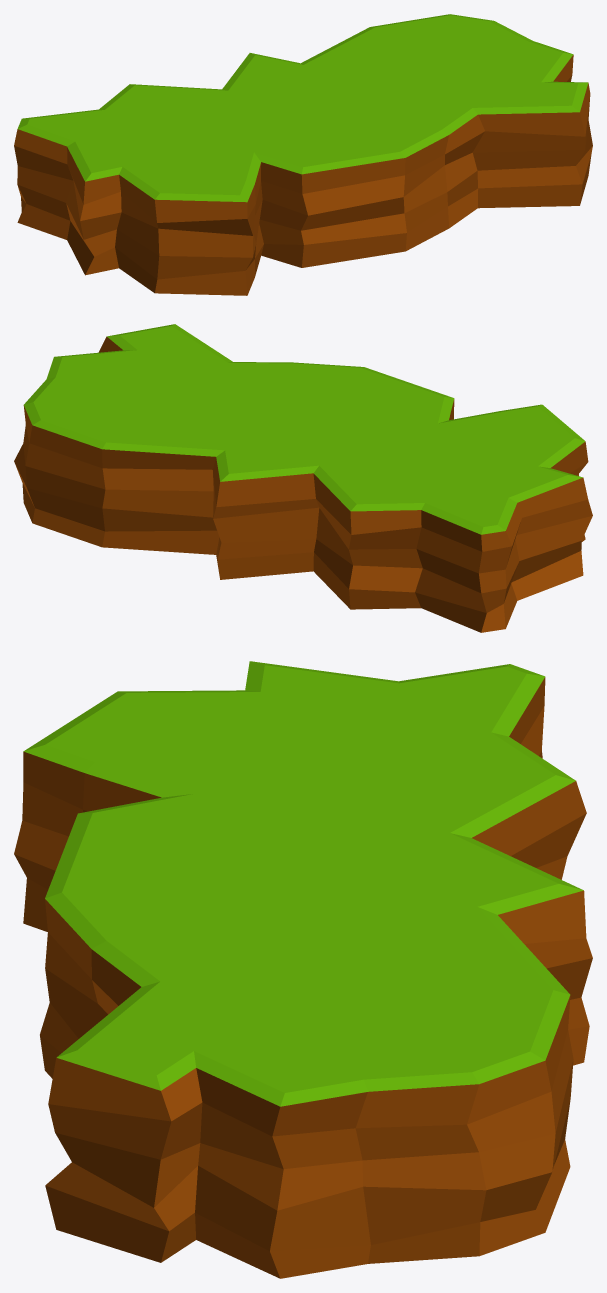
File: land_square_05.fbx
The picture shows the model from 3 angles, top to bottom: view 1: azimuth 30°, elevation 25°; view 2: azimuth 150°, elevation 25°; view 3: azimuth 270°, elevation 25°; orthographic projection. The views are drawn at different scales.
Visible parts, largest first — view 1: Plane.007; view 2: Plane.007; view 3: Plane.007.
Boxes of the visible parts, x1,y1,x2,y2 form: Plane.007: [14, 14, 592, 295]; Plane.007: [14, 324, 592, 632]; Plane.007: [14, 661, 592, 1278].
Bounding box in the file's own units: 1955 × 356 × 1052.
Materials: 1 (1 with a texture image).
